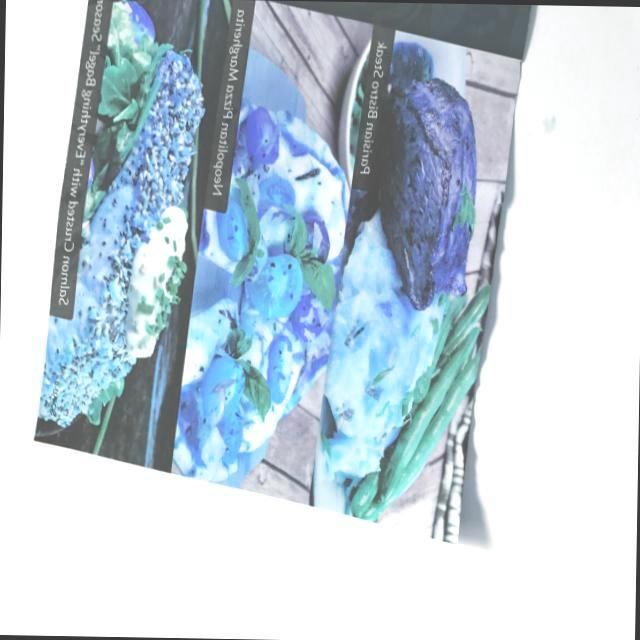paper: (28, 0, 544, 551)
